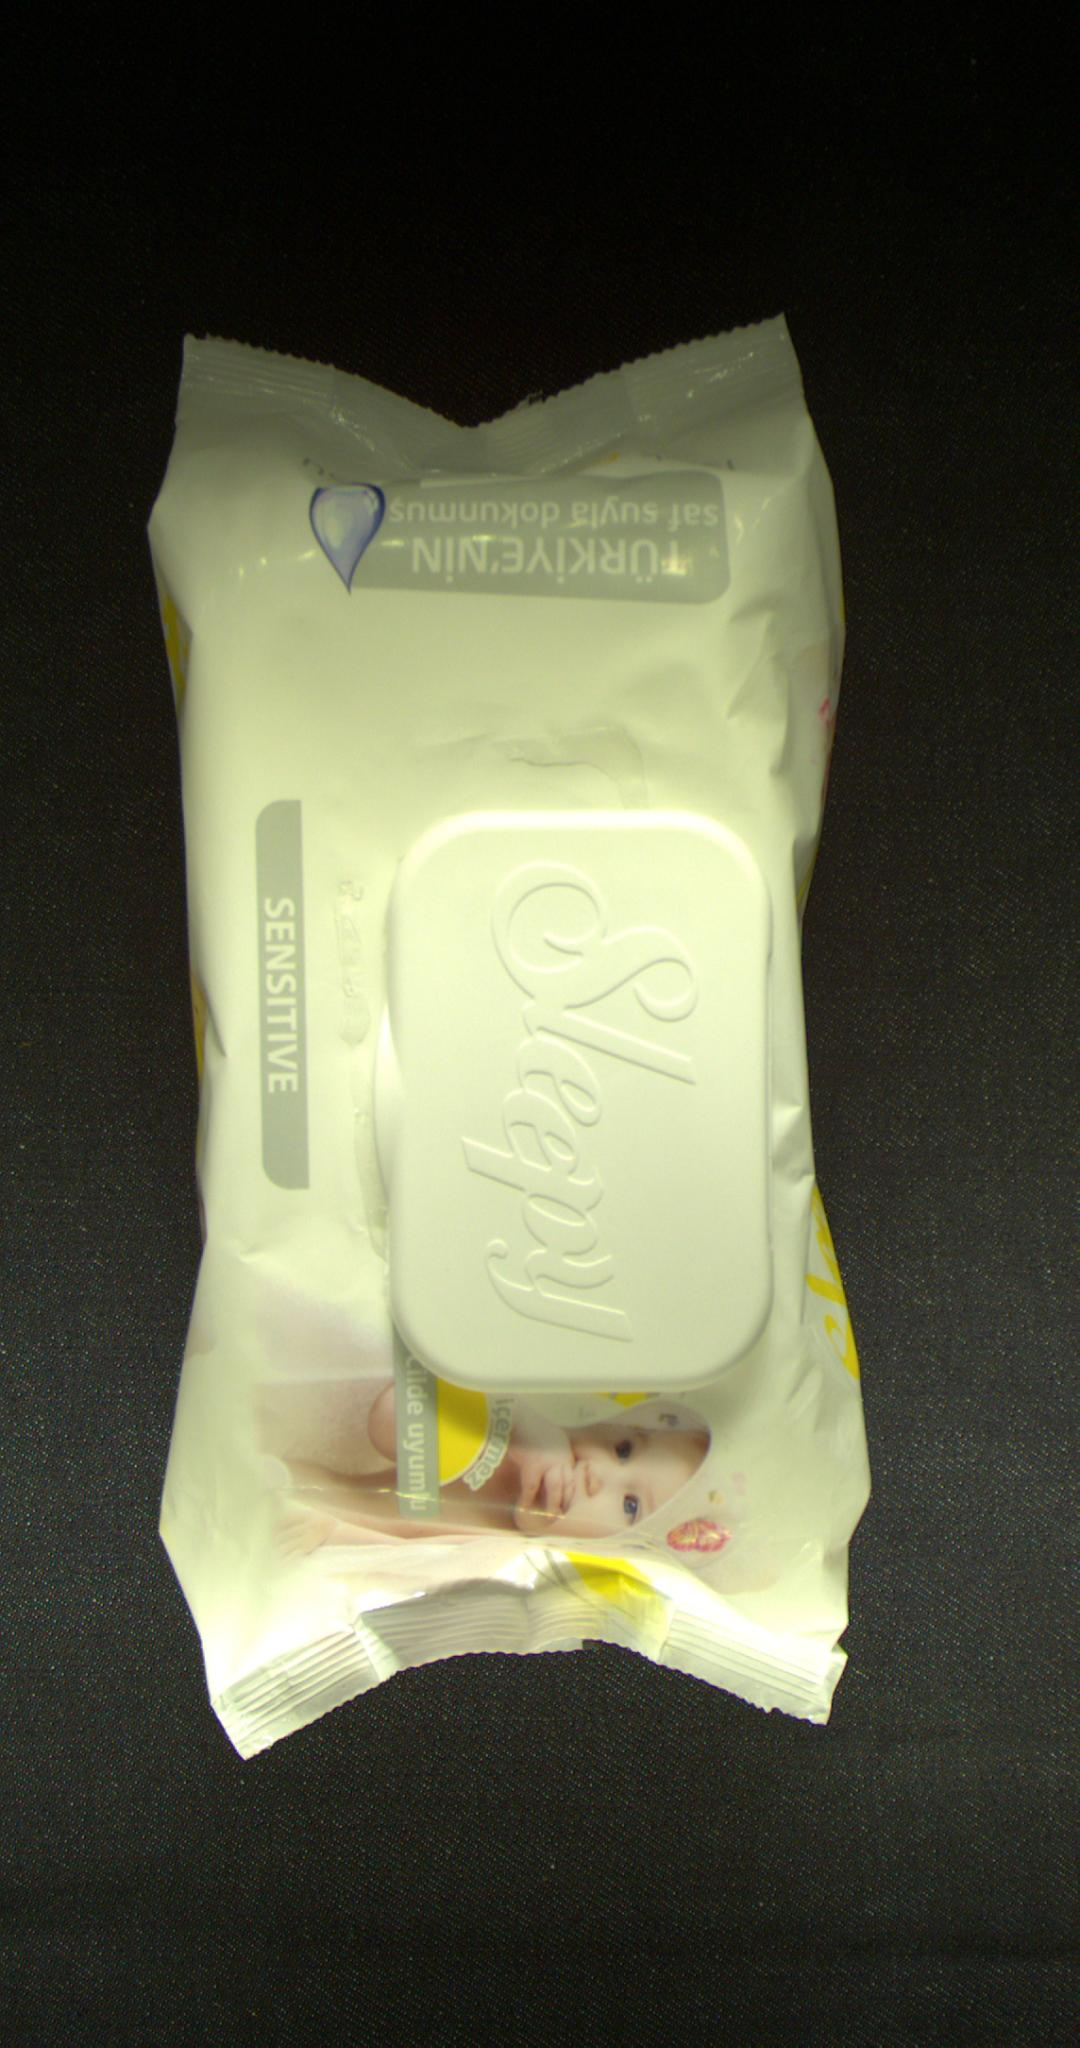kapak: (365, 801, 783, 1391)
